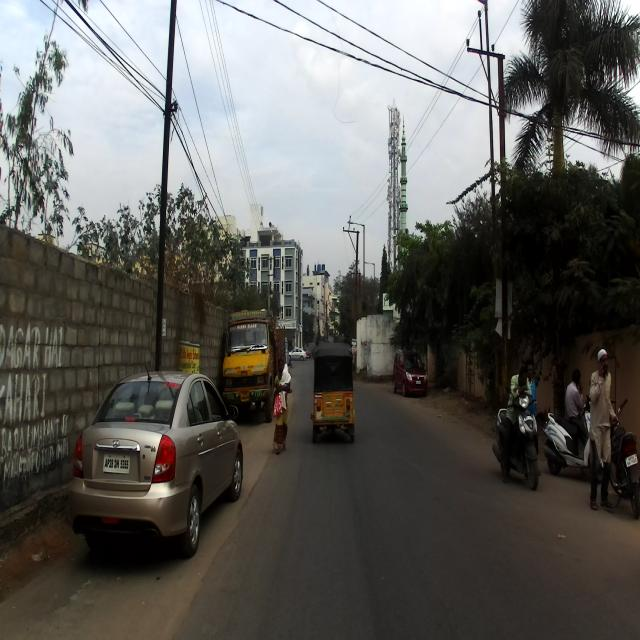auto ahead at: (314, 344, 358, 443)
car ahead at: (70, 360, 245, 546)
motorcycle ahead at: (492, 392, 544, 490)
person ahead at: (583, 344, 619, 512)
truck ahead at: (225, 309, 276, 415)
